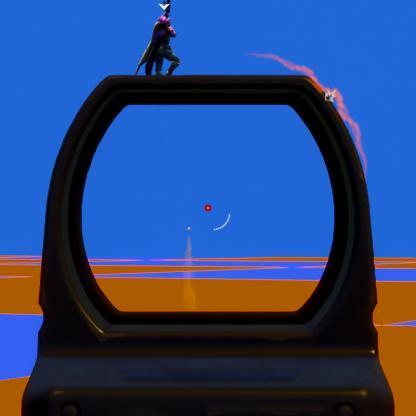person: (136, 4, 180, 76)
